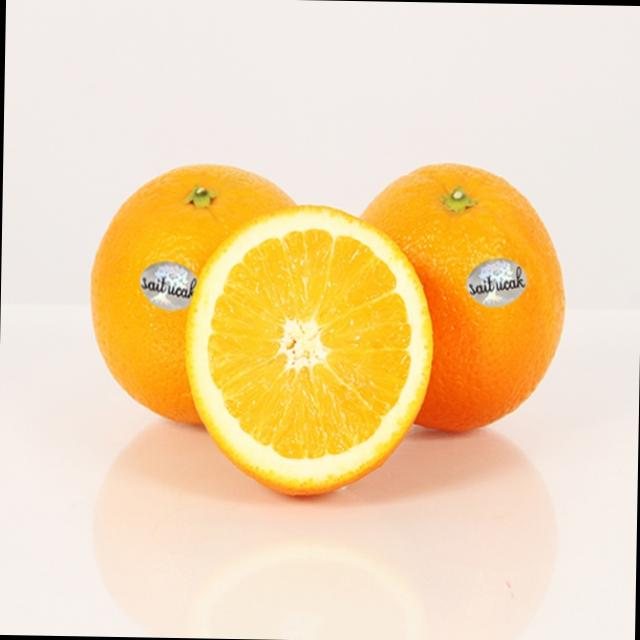orange: (328, 138, 578, 440), (80, 146, 313, 454)
